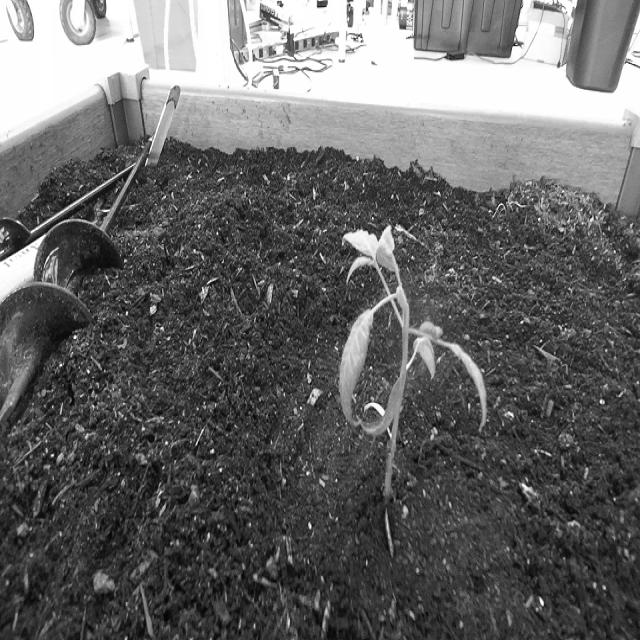Healthy: (332, 221, 489, 511)
